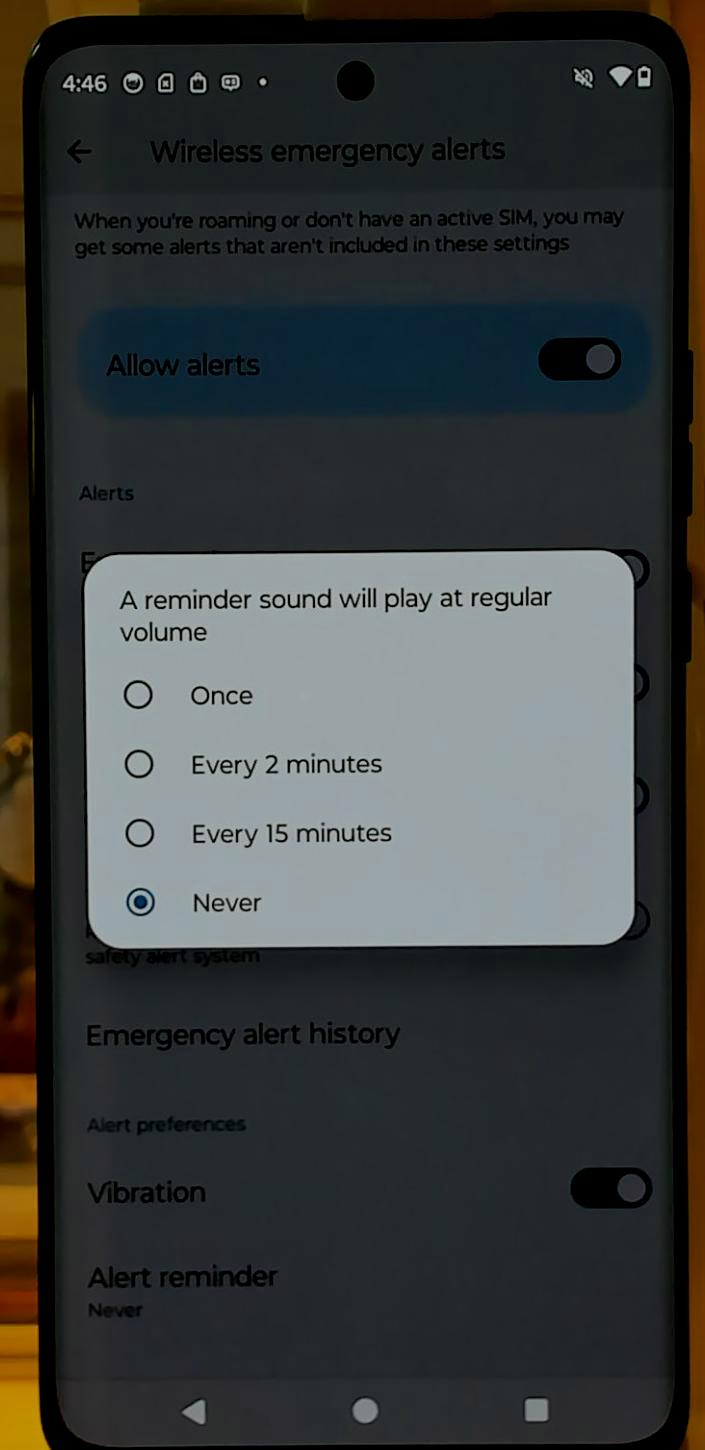RadioButton: (114, 808, 400, 866), (112, 739, 395, 792), (114, 877, 287, 924), (107, 668, 258, 720)
